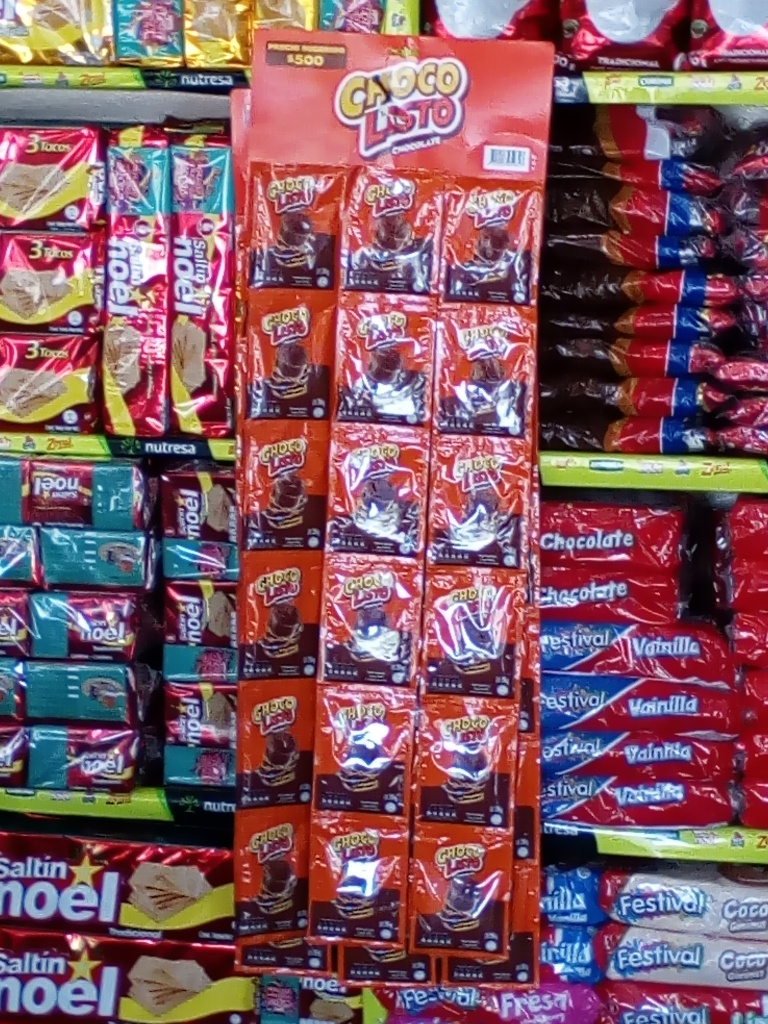COL0170103SOB02000: (249, 156, 340, 293)
